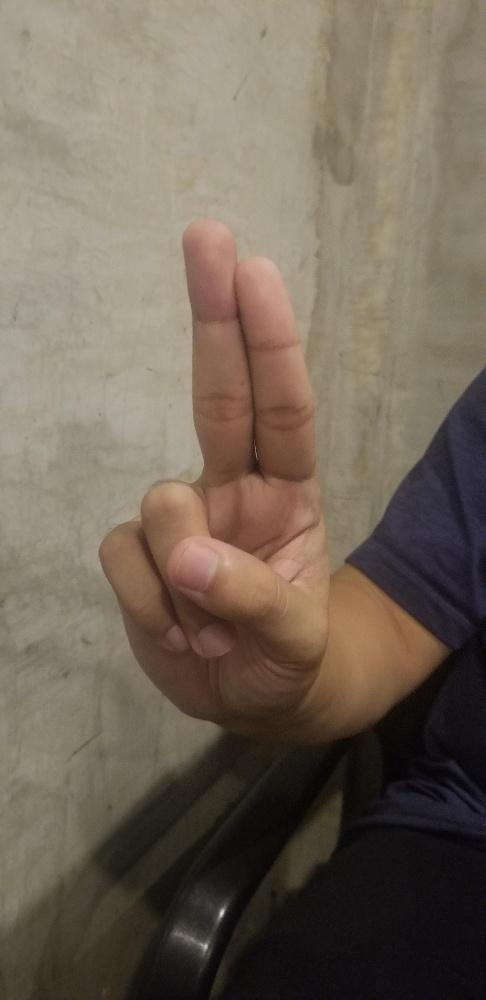u: (97, 217, 328, 725)
